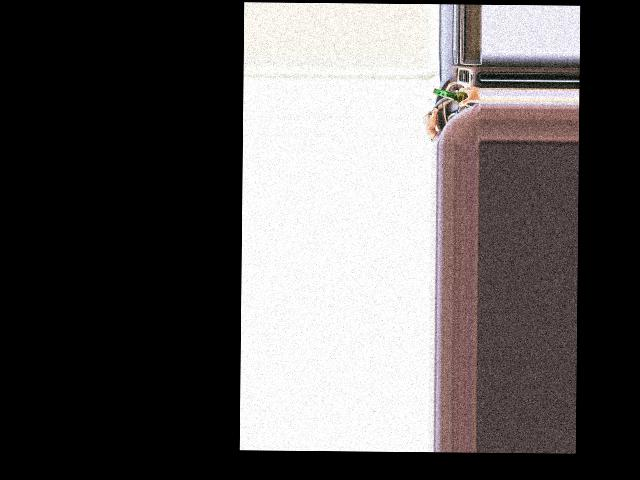beer: (432, 87, 479, 108)
